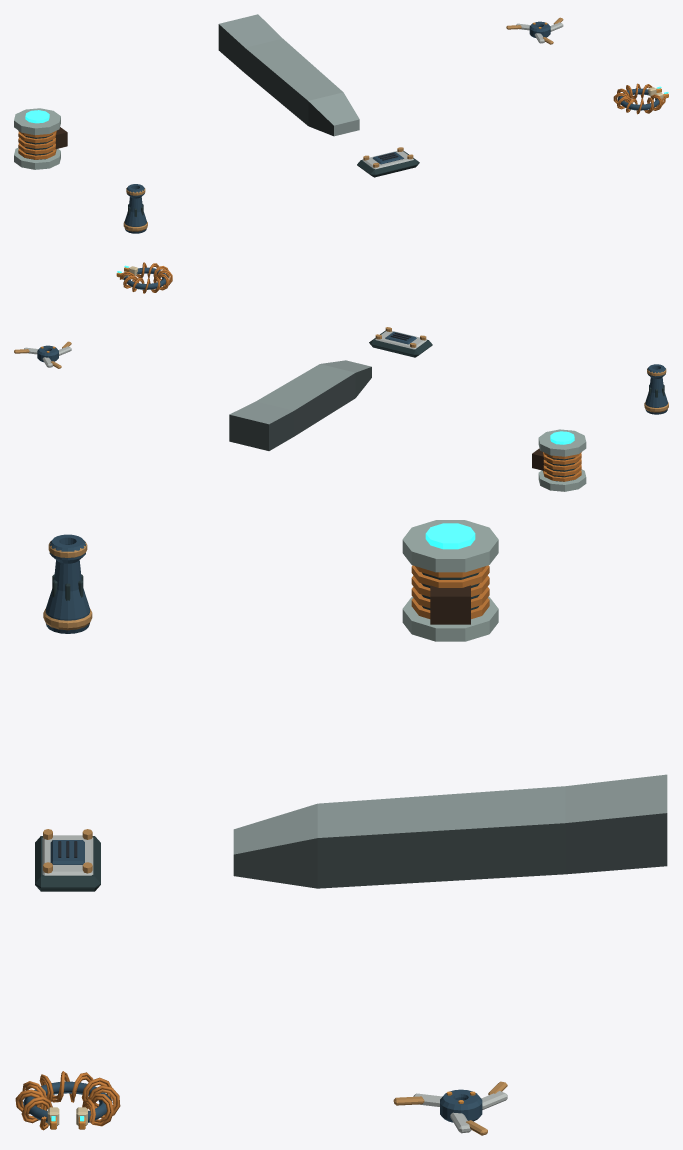
Rendered from w2a-salvage-parts.glb.
3 renders of one model, top to bottom at view 1: azimuth 30°, elevation 25°; view 2: azimuth 150°, elevation 25°; view 3: azimuth 270°, elevation 25°, orthographic. The views are drawn at different scales.
Visible parts, largest first — view 1: Tine, Servo, Arc coil, Rivet plate, Nozzle, Rotor; view 2: Tine, Servo, Arc coil, Rivet plate, Nozzle, Rotor; view 3: Tine, Servo, Arc coil, Rivet plate, Nozzle, Rotor.
Boxes of the visible parts, x1=… form: Tine: x1=218, y1=14, x2=359, y2=136; Servo: x1=14, y1=108, x2=67, y2=169; Arc coil: x1=613, y1=83, x2=668, y2=114; Rivet plate: x1=357, y1=147, x2=419, y2=177; Nozzle: x1=123, y1=184, x2=147, y2=233; Rotor: x1=506, y1=17, x2=563, y2=44; Tine: x1=229, y1=360, x2=371, y2=450; Servo: x1=532, y1=429, x2=586, y2=491; Arc coil: x1=116, y1=262, x2=172, y2=293; Rivet plate: x1=369, y1=327, x2=432, y2=357; Nozzle: x1=644, y1=364, x2=668, y2=414; Rotor: x1=14, y1=341, x2=71, y2=368; Tine: x1=233, y1=774, x2=667, y2=888; Servo: x1=402, y1=520, x2=498, y2=641; Arc coil: x1=15, y1=1071, x2=120, y2=1130; Rivet plate: x1=35, y1=829, x2=100, y2=891; Nozzle: x1=43, y1=534, x2=92, y2=633; Rotor: x1=393, y1=1081, x2=507, y2=1135.
Size of the model in its own units: 3.51 by 0.2695 by 1.79.
